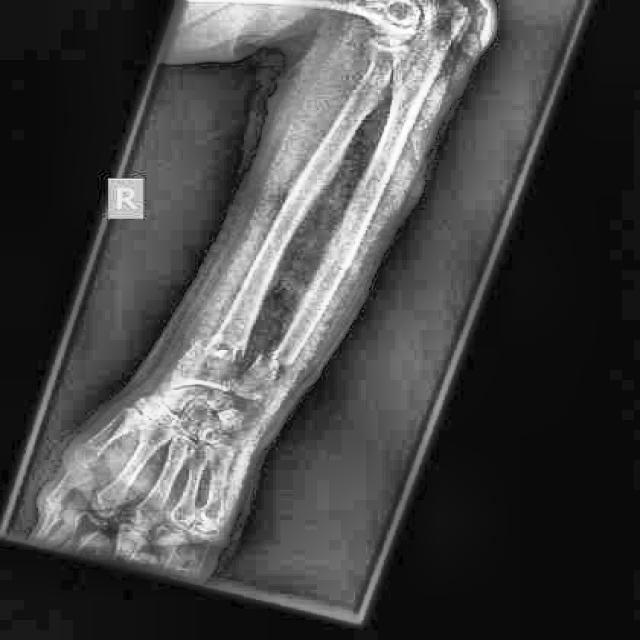fingers positive: (150, 332, 323, 404)
